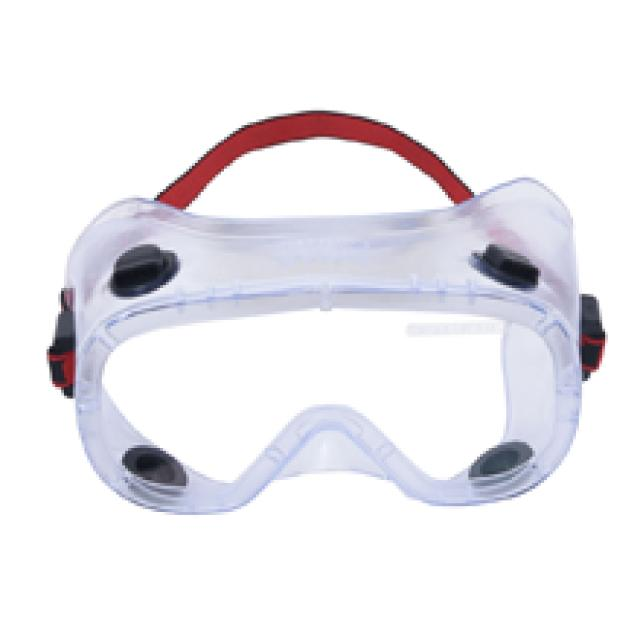Goggles: (42, 21, 556, 168)
